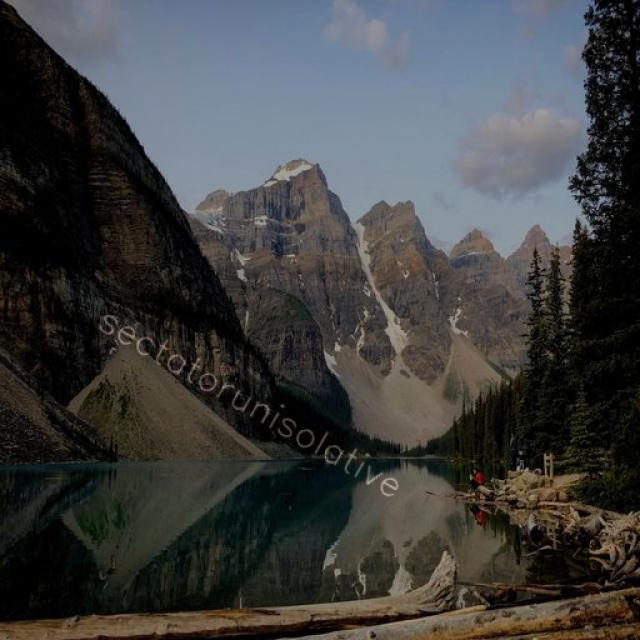watermark: (86, 299, 420, 506)
